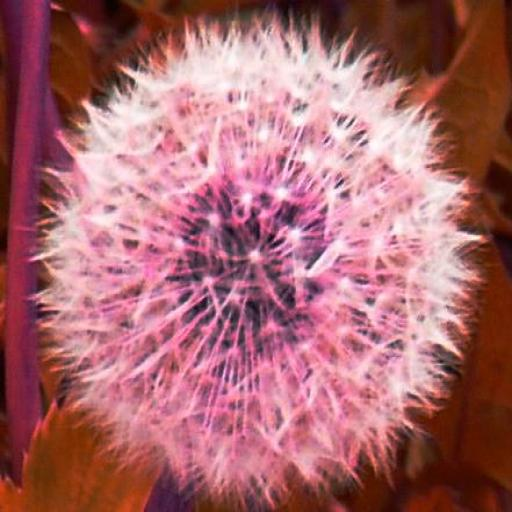dandelion: (30, 22, 476, 491)
